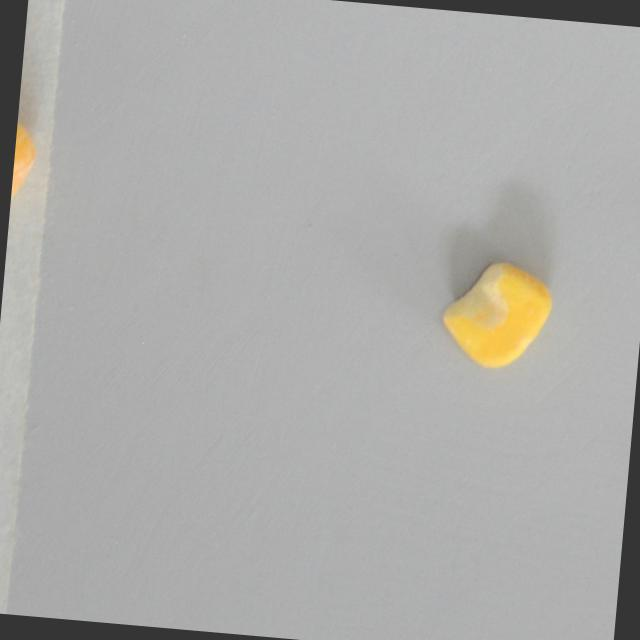punto_negro: (436, 254, 557, 375)
